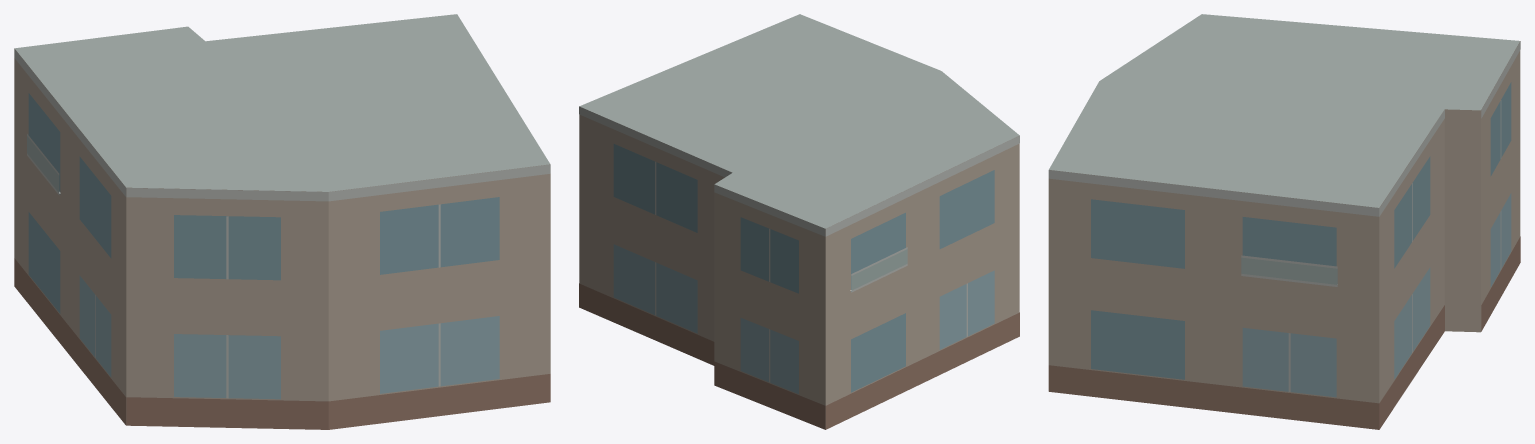
Rendered from survey-upis-32816612.glb.
3 views of the same model, side by side, from view 1: azimuth 30°, elevation 25°; view 2: azimuth 150°, elevation 25°; view 3: azimuth 270°, elevation 25° (orthographic). The views are drawn at different scales.
Parts seen in each view (by area): view 1: survey-upis-32816612.tmp; view 2: survey-upis-32816612.tmp; view 3: survey-upis-32816612.tmp.
Boxes of the visible parts, x1=… form: survey-upis-32816612.tmp: x1=14, y1=14, x2=550, y2=429; survey-upis-32816612.tmp: x1=579, y1=14, x2=1019, y2=429; survey-upis-32816612.tmp: x1=1048, y1=14, x2=1520, y2=429.
Size of the model in its own units: 11.44 by 6.1 by 11.76.
